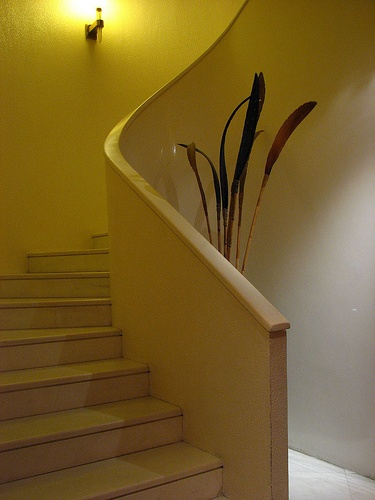stairs_up: (1, 327, 242, 500)
